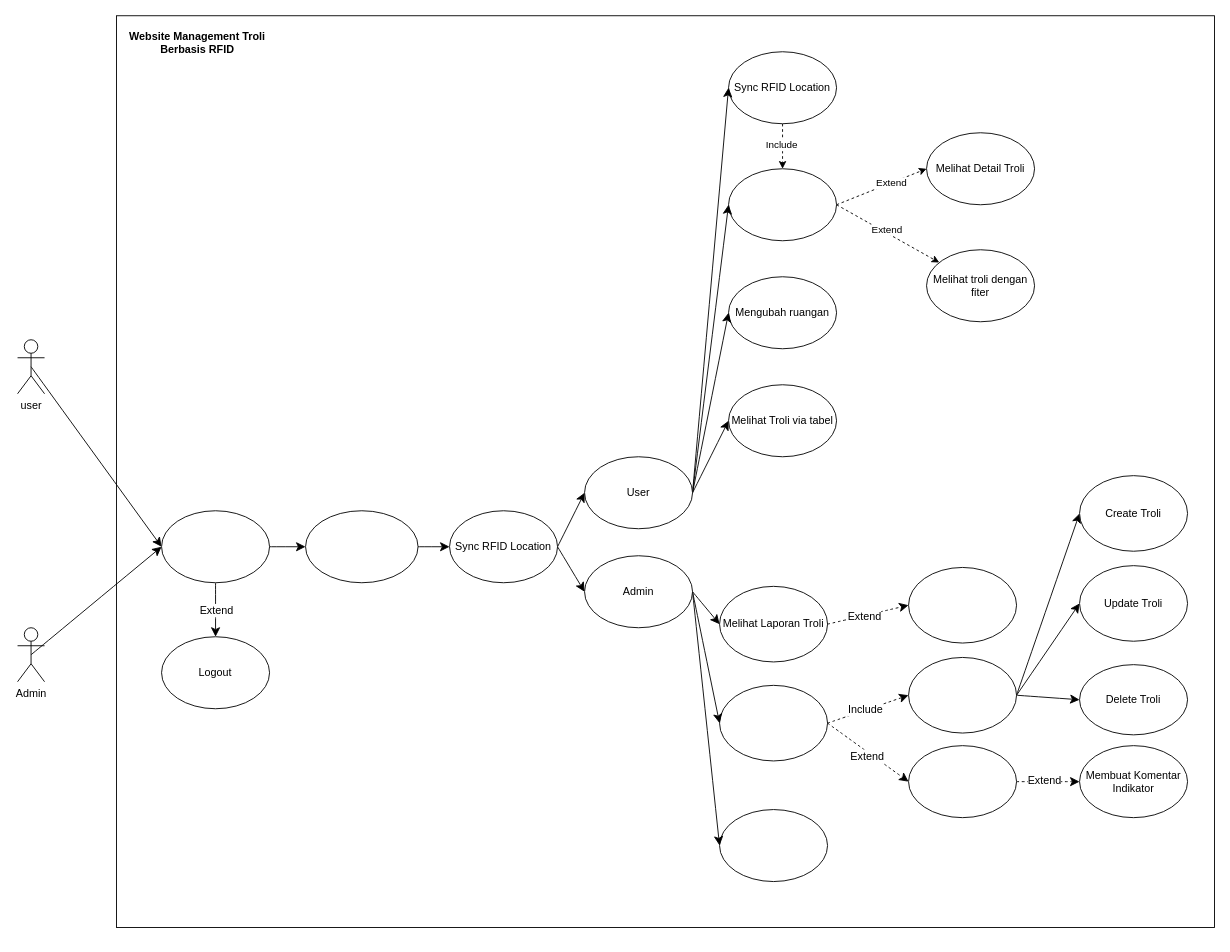
Some shapes in this 1230 by 952 pixel diagram are drawn without their labels. The shapes that lost their labels are listed below. From the top down, each one's centre as x and y in pixels, then its label:
At pixel 782 204: "Melihat Lokasi Troli".
At pixel 215 546: "Login".
At pixel 361 546: "Validasi data".
At pixel 962 605: "Mendowload Laporan".
At pixel 962 695: "CRUD Troli".
At pixel 773 722: "Administrasi Troli".
At pixel 962 781: "Memberi indikator".
At pixel 773 845: "Melihat User Aktif".
